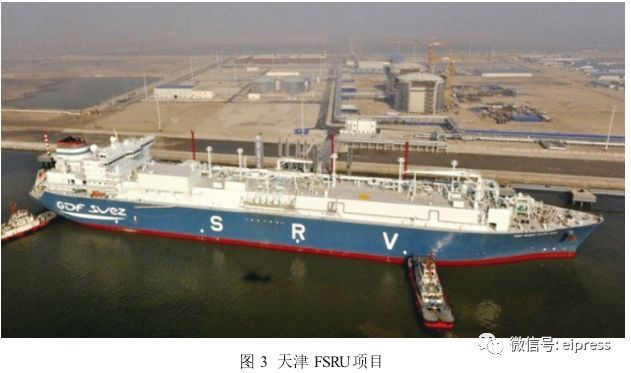Cargoship: (30, 127, 602, 260)
otherboat: (413, 246, 451, 328), (3, 199, 55, 243)
